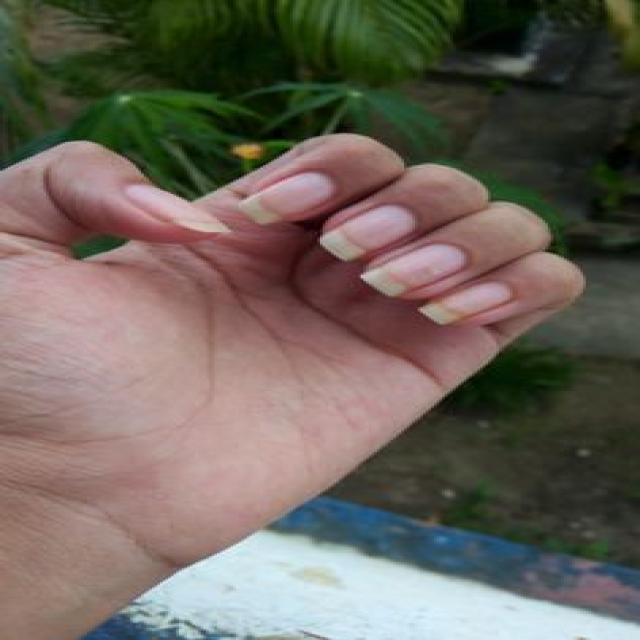Fingernail: (361, 243, 468, 298), (320, 204, 418, 261), (239, 171, 338, 226), (124, 184, 230, 233), (418, 280, 514, 326)
